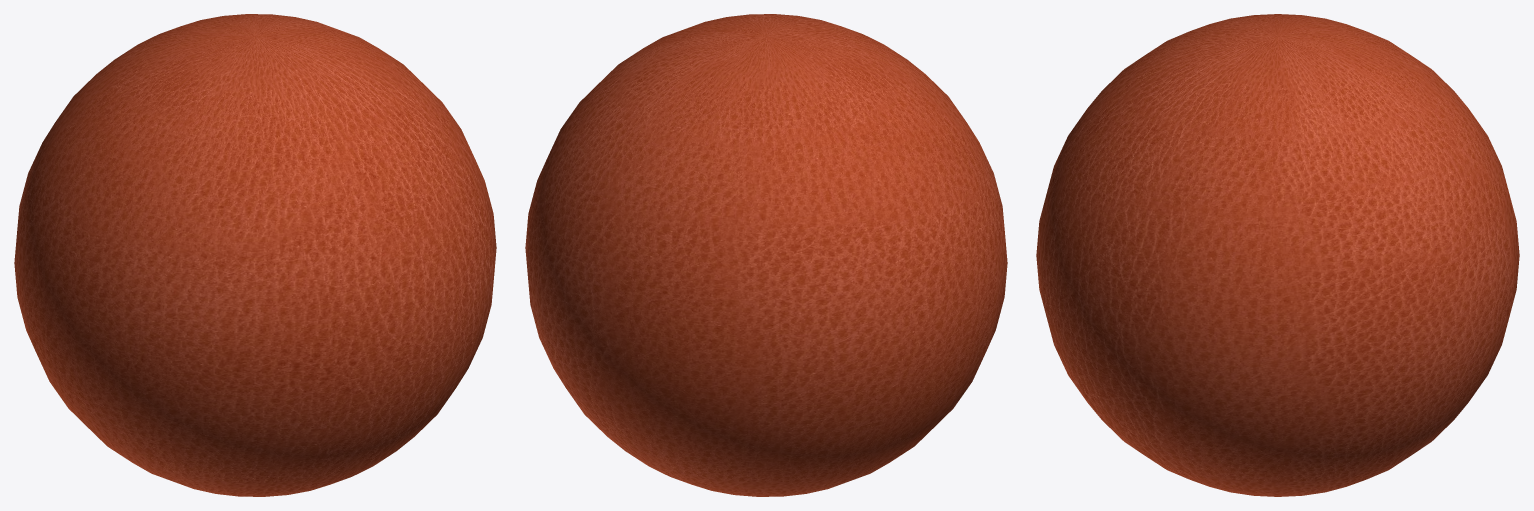
File: ball.glb
The picture shows the model from 3 angles, left to right: view 1: azimuth 30°, elevation 25°; view 2: azimuth 150°, elevation 25°; view 3: azimuth 270°, elevation 25°; orthographic projection.
Visible parts, largest first — view 1: Ball; view 2: Ball; view 3: Ball.
Part boxes in pixels (x1=…): Ball: x1=14, y1=14, x2=496, y2=496; Ball: x1=525, y1=14, x2=1007, y2=496; Ball: x1=1036, y1=14, x2=1519, y2=496.
Bounding box in the file's own units: 0.4 × 0.4 × 0.4.
1 material, 1 textured.
